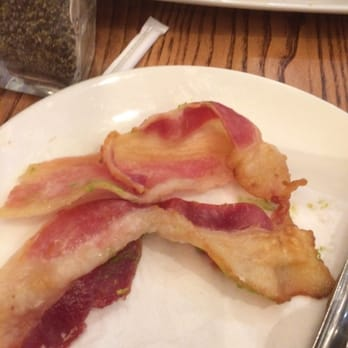bacon: (48, 136, 308, 300)
